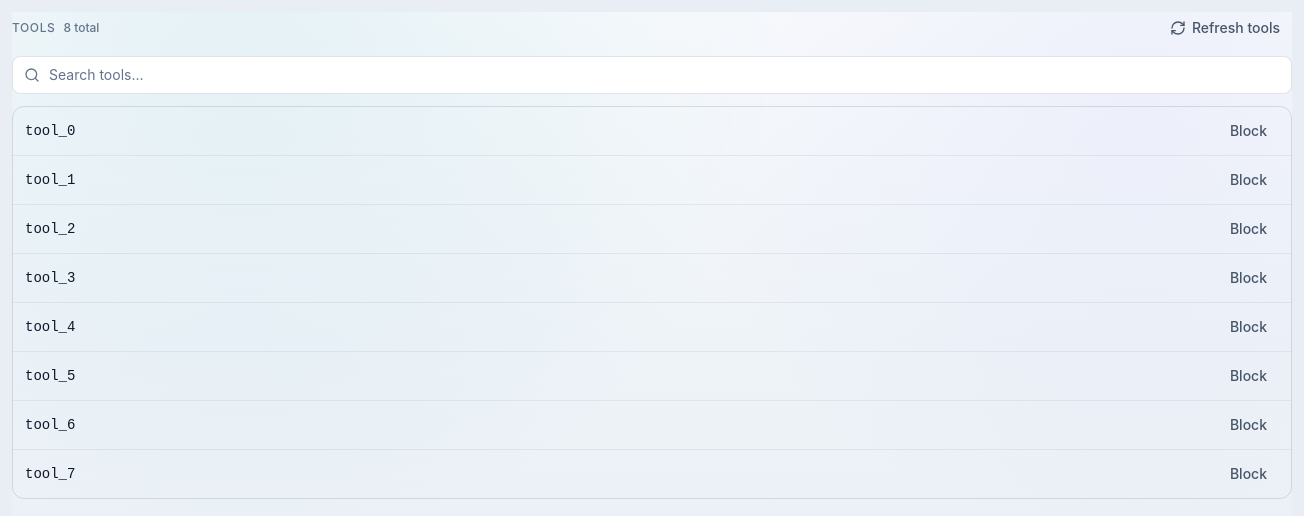
Test: ServerToolsList › filters tools by search when the list is long
Type "tool_3" into the search field labelled "Search tools" at (652, 75), box [12, 56, 1292, 94]
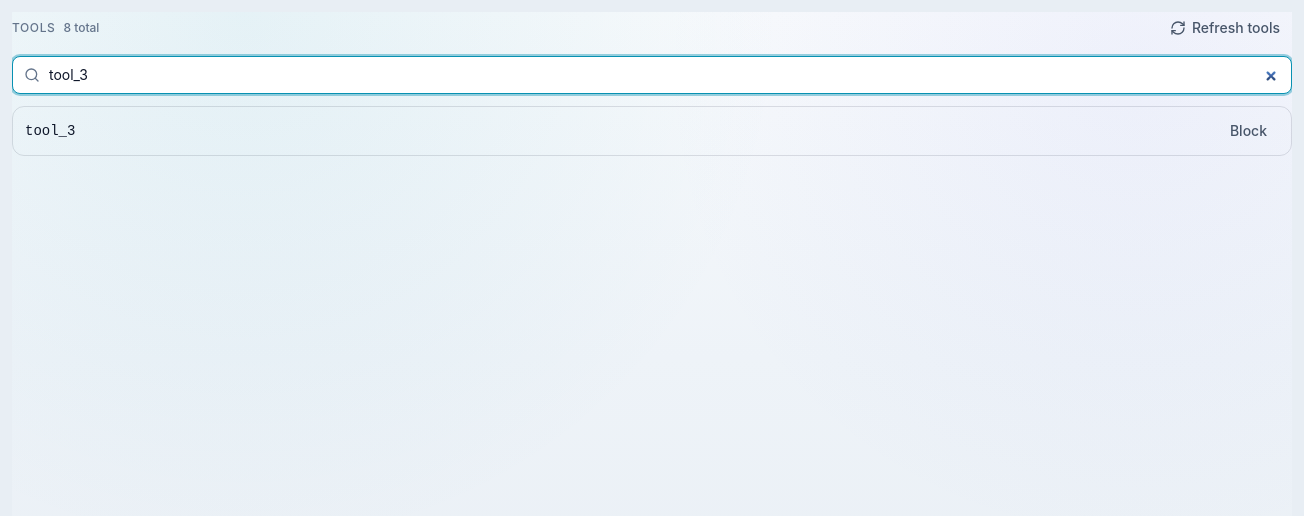
Expected: the text "tool_3" is shown, [25, 121, 75, 141]
Expected: the text "tool_1" is gone
